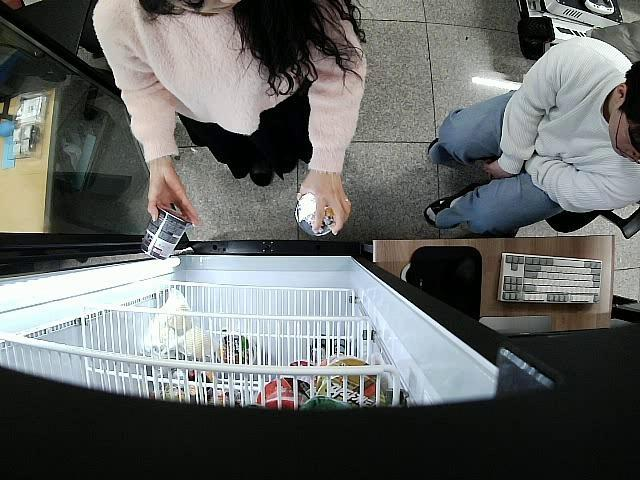08_buldak_S: (141, 205, 190, 262), (296, 194, 333, 237)
